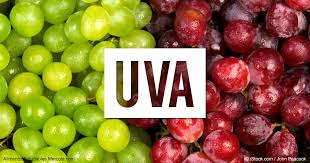Green grapes: (7, 8, 104, 158)
Red Grapes: (216, 22, 301, 155)
